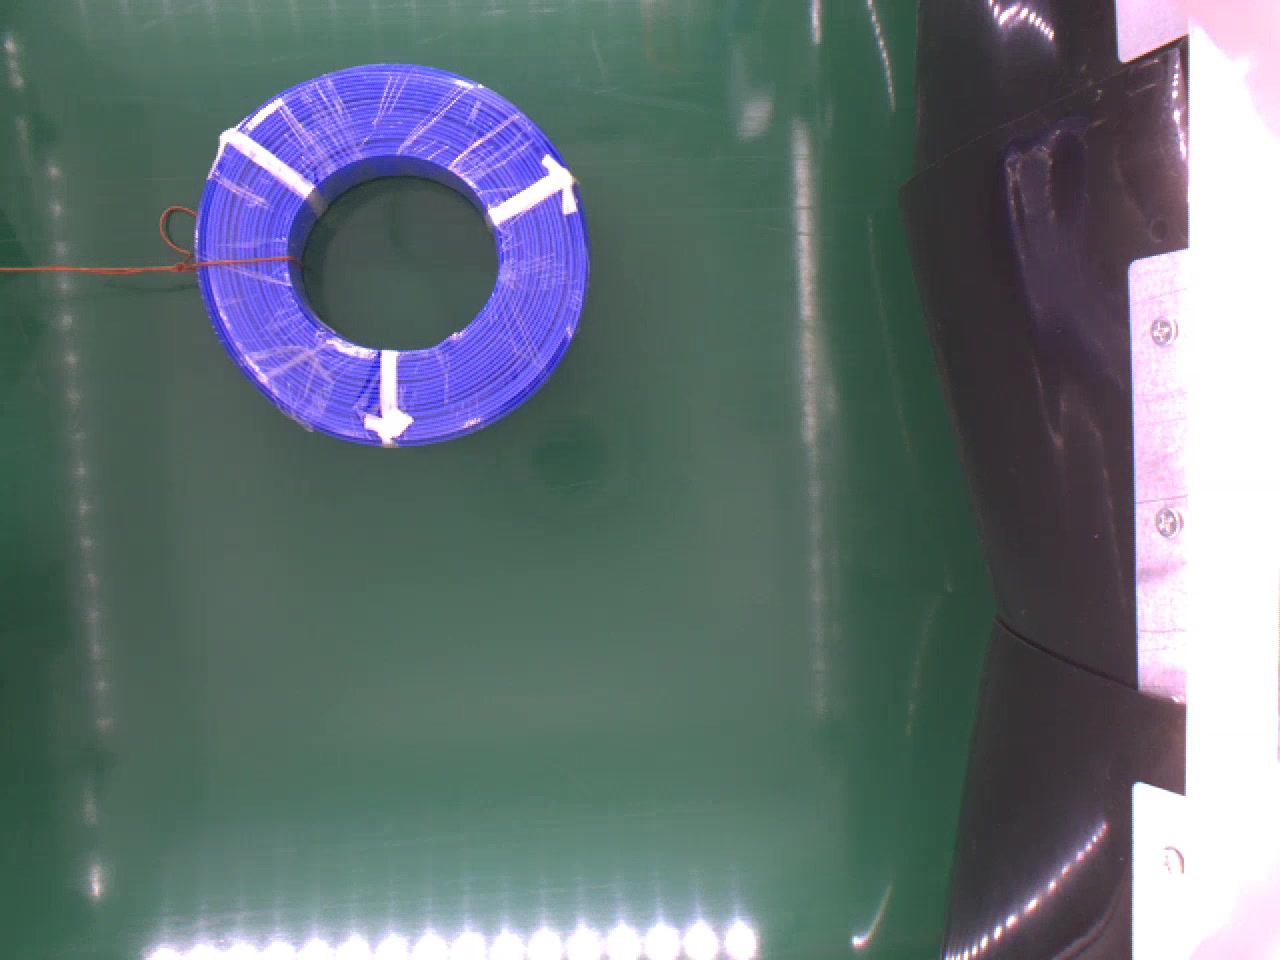blue: (191, 56, 589, 450)
